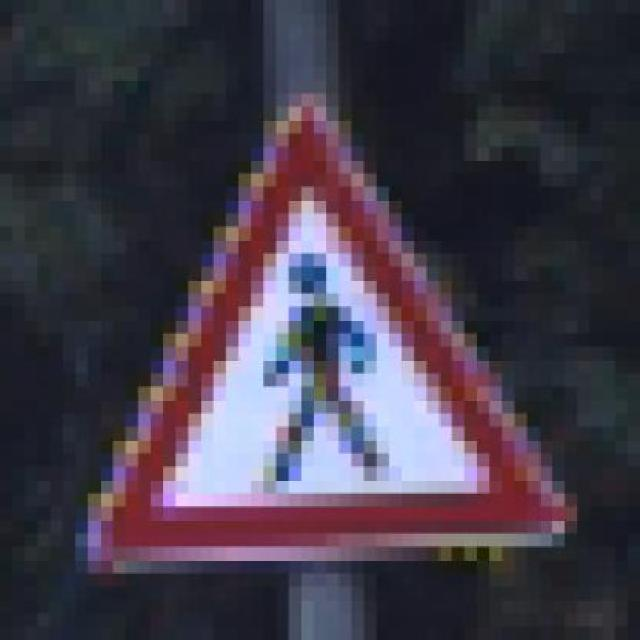Pedestrian Crossing: (58, 93, 598, 573)
